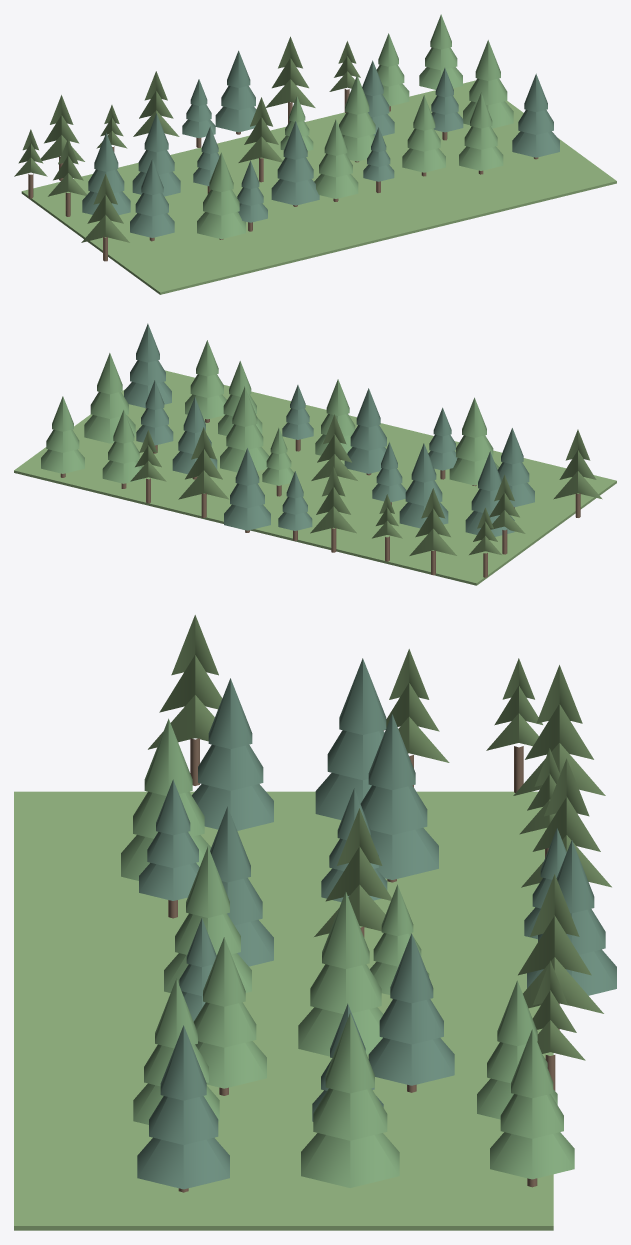
The model's file is bg_forest_strip.glb.
The picture shows the model from 3 angles, top to bottom: view 1: azimuth 30°, elevation 25°; view 2: azimuth 150°, elevation 25°; view 3: azimuth 270°, elevation 25°; orthographic projection. The views are drawn at different scales.
Parts seen in each view (by area): view 1: bg_forest_strip; view 2: bg_forest_strip; view 3: bg_forest_strip.
Boxes of the visible parts, left/top/right/bottom form: bg_forest_strip: left=14, top=14, right=616, bottom=294; bg_forest_strip: left=14, top=323, right=616, bottom=585; bg_forest_strip: left=14, top=615, right=616, bottom=1230.
Bounding box in the file's own units: 42.85 × 7.66 × 23.47.
